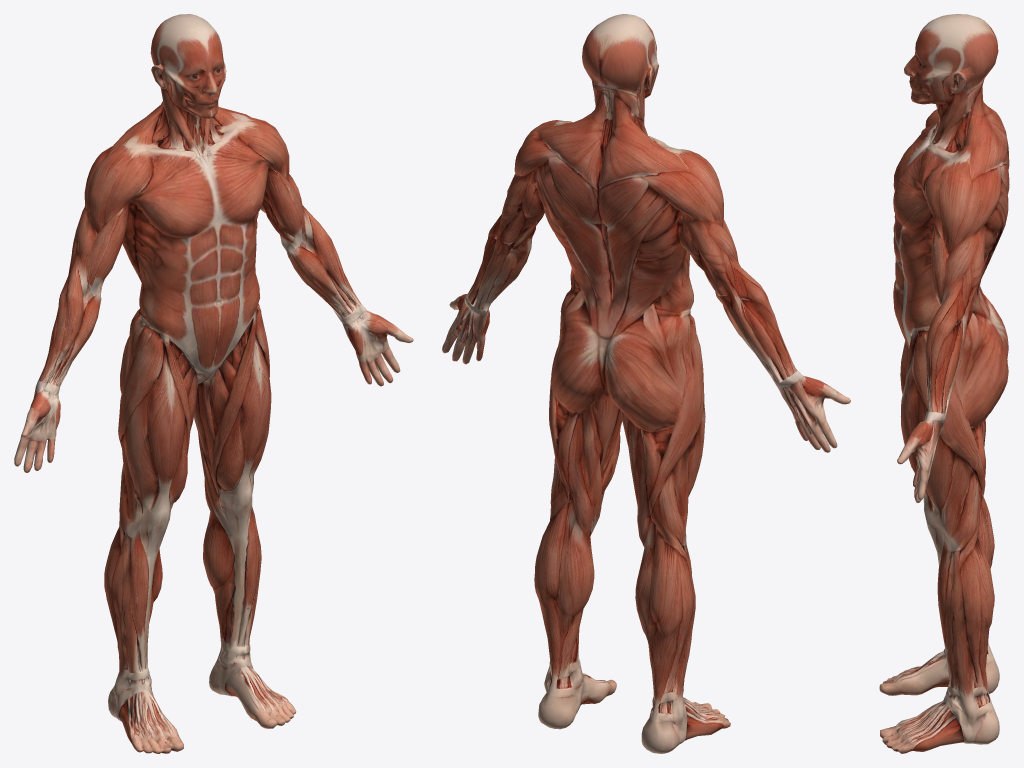
File: human-muscles.glb
3 renders of one model, left to right at view 1: azimuth 30°, elevation 25°; view 2: azimuth 150°, elevation 25°; view 3: azimuth 270°, elevation 25°, orthographic. The views are drawn at different scales.
Parts seen in each view (by area): view 1: human-muscles; view 2: human-muscles; view 3: human-muscles.
Boxes of the visible parts, x1,y1,x2,y2 form: human-muscles: [14, 14, 413, 753]; human-muscles: [442, 14, 850, 753]; human-muscles: [879, 14, 1009, 753].
Bounding box in the file's own units: 1.06 × 1.8 × 0.3024.
Materials: 1 (1 with a texture image).
